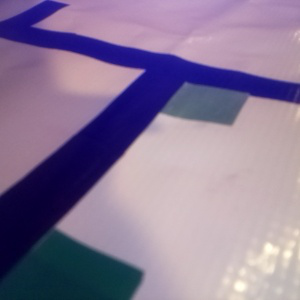bottom_right: (143, 73, 249, 125)
top_right: (1, 228, 143, 300)
